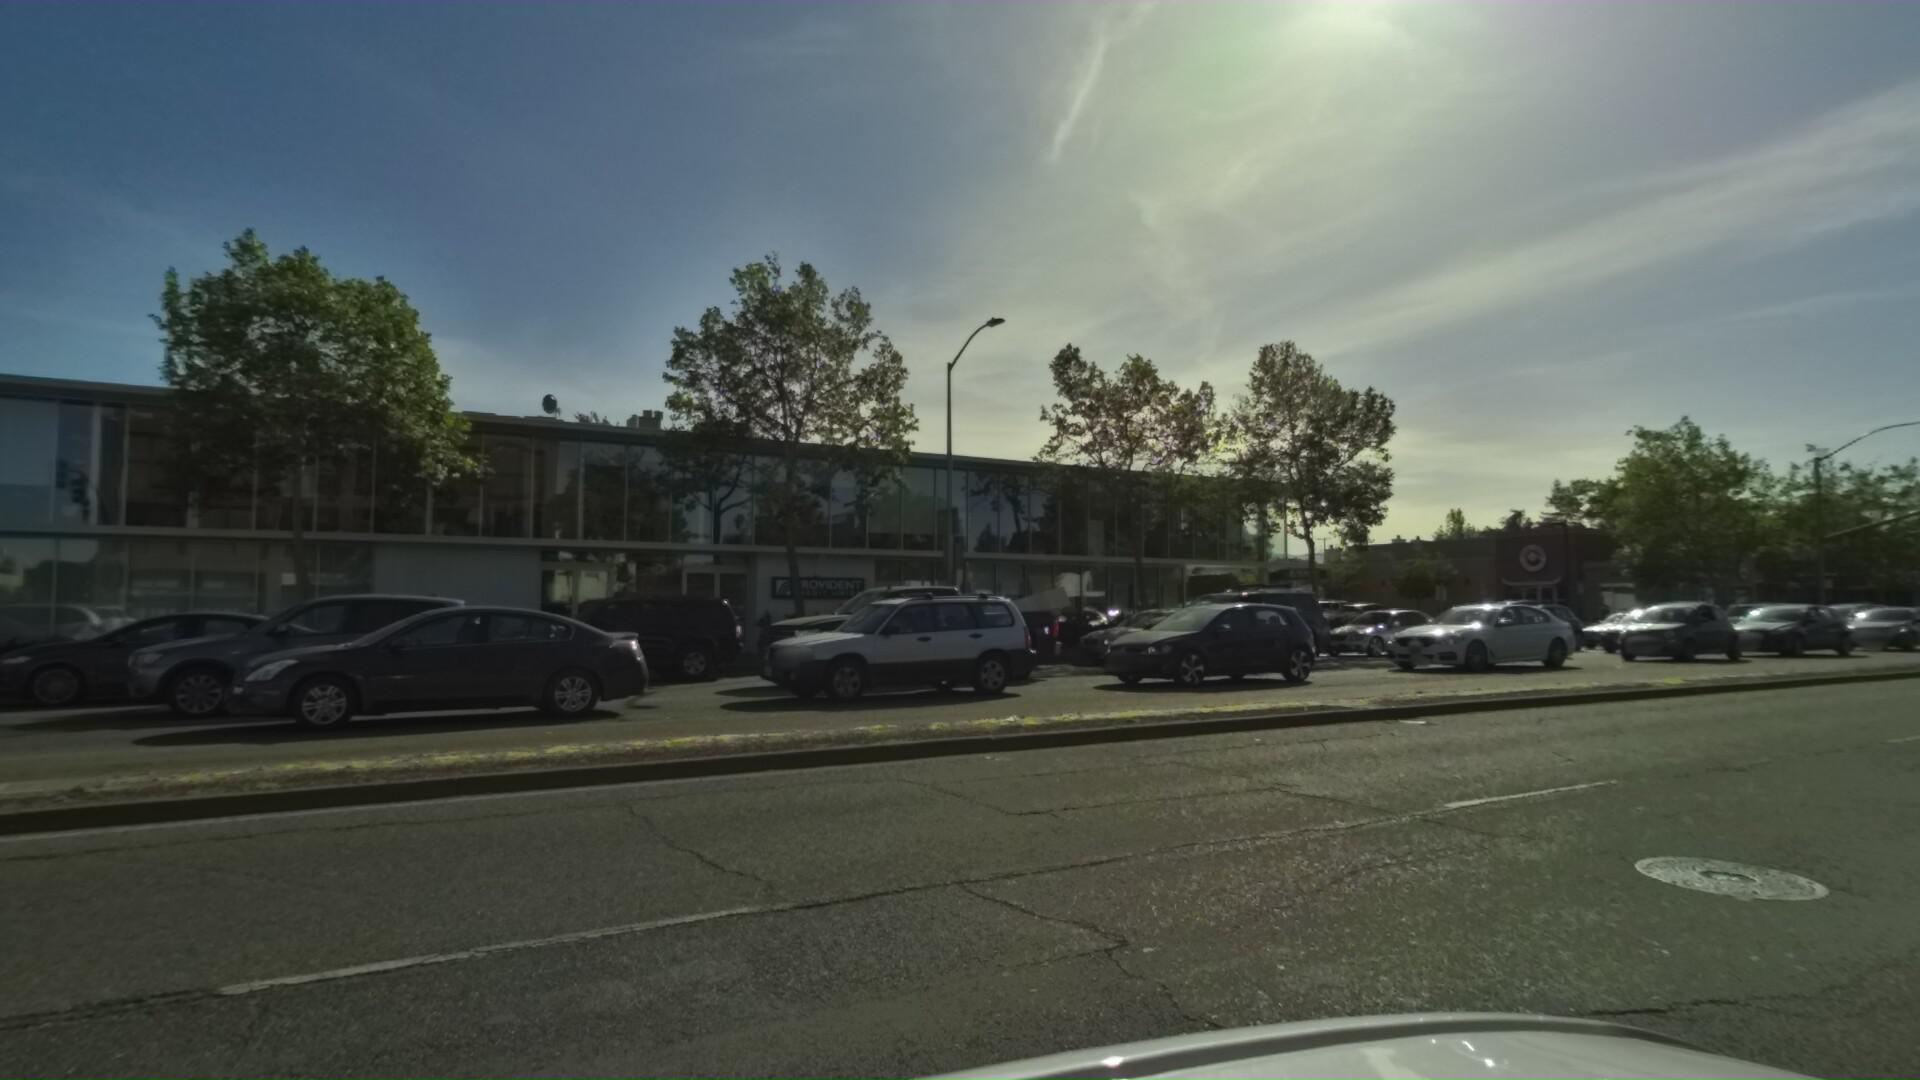car: (171, 601, 638, 744), (71, 587, 464, 727), (729, 576, 1080, 705), (719, 587, 1029, 713), (464, 589, 738, 698), (1067, 599, 1313, 695), (1118, 582, 1320, 670), (1361, 600, 1588, 678), (847, 599, 1040, 680), (1052, 605, 1226, 675), (1403, 604, 1571, 670), (1600, 597, 1751, 669), (1704, 603, 1862, 669), (1298, 607, 1449, 665), (1580, 603, 1716, 663), (1456, 601, 1584, 659), (1567, 605, 1684, 658), (1683, 599, 1799, 651), (1824, 603, 1920, 659), (1907, 597, 1920, 640)
